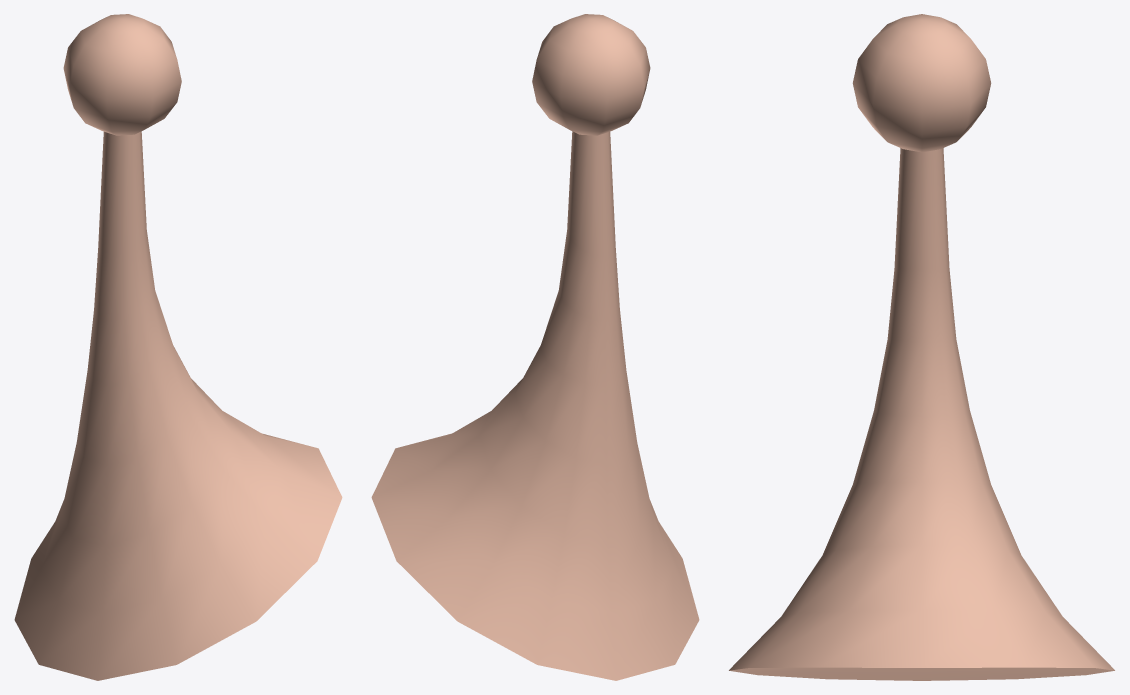
The model's file is SP_House10_Desgin01.fbx.
3 views of the same model, side by side, from view 1: azimuth 30°, elevation 25°; view 2: azimuth 150°, elevation 25°; view 3: azimuth 270°, elevation 25° (orthographic). The views are drawn at different scales.
Visible parts, largest first — view 1: SP_House10_Desgin01; view 2: SP_House10_Desgin01; view 3: SP_House10_Desgin01.
Part boxes in pixels (box(x1,y1,x2,y2)): SP_House10_Desgin01: box(14, 14, 342, 680); SP_House10_Desgin01: box(371, 14, 699, 680); SP_House10_Desgin01: box(729, 14, 1114, 680).
Size of the model in its own units: 1.78 by 3.79 by 1.88.
